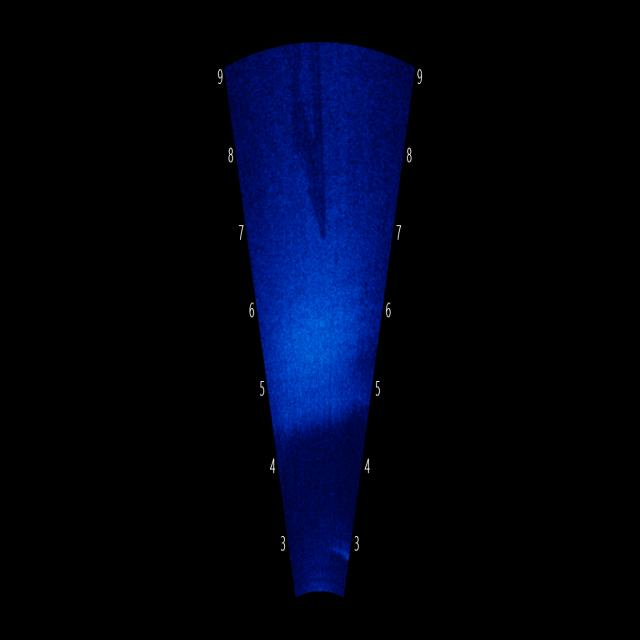triangle: (281, 52, 353, 235)
